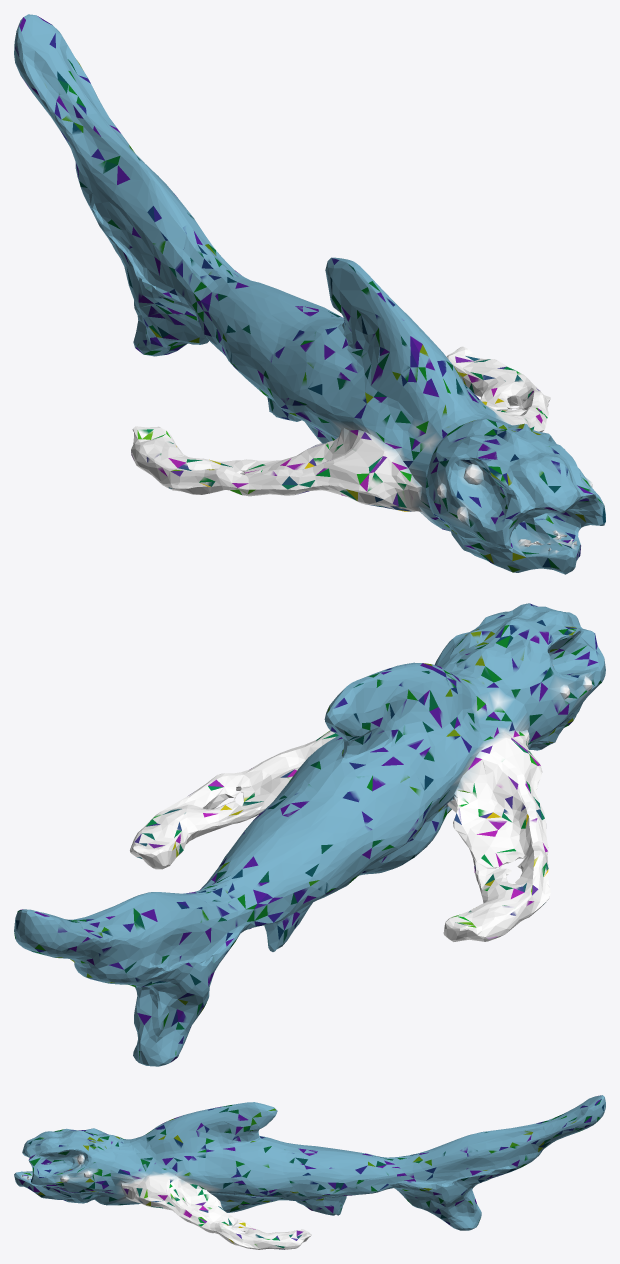
Rendered from Poisson1.glb.
3 renders of one model, top to bottom at view 1: azimuth 30°, elevation 25°; view 2: azimuth 150°, elevation 25°; view 3: azimuth 270°, elevation 25°, orthographic. The views are drawn at different scales.
Parts seen in each view (by area): view 1: Cone 3; view 2: Cone 3; view 3: Cone 3.
Part boxes in pixels (box(x1,y1,x2,y2)): Cone 3: box(14, 14, 605, 574); Cone 3: box(14, 603, 605, 1066); Cone 3: box(14, 1095, 605, 1249).
Bounding box in the file's own units: 2.42 × 1.5 × 6.08.
1 material, 1 textured.
